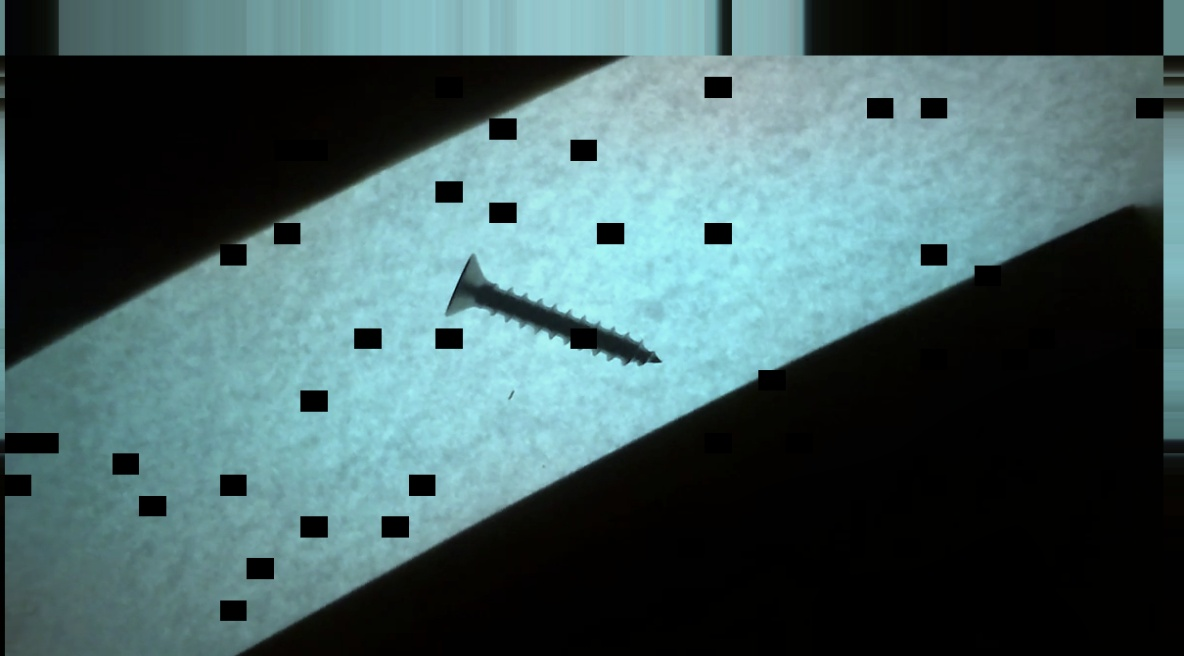S001: (428, 247, 681, 378)
